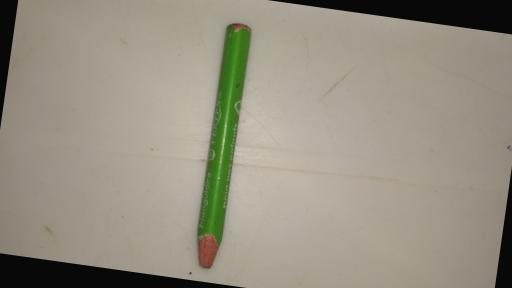Pencil: (190, 20, 252, 274)
